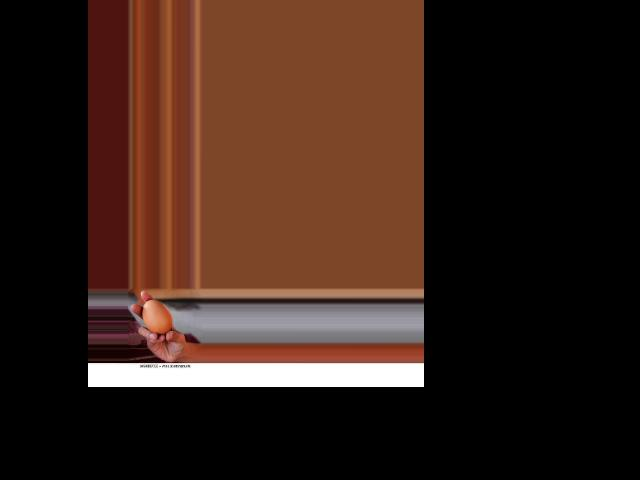egg: (141, 299, 171, 334)
